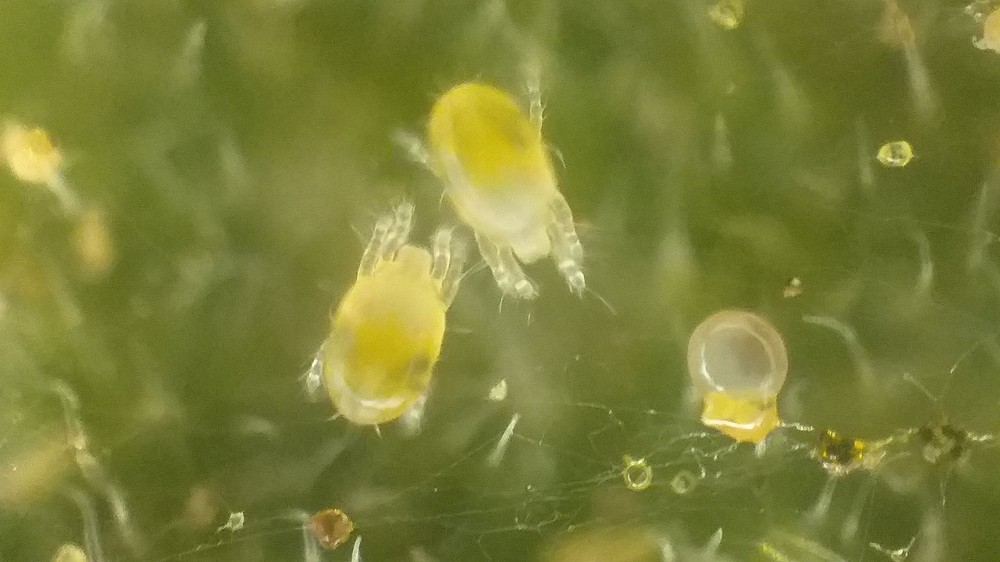Aracnido Rojo: (407, 72, 622, 312), (285, 193, 475, 441)
